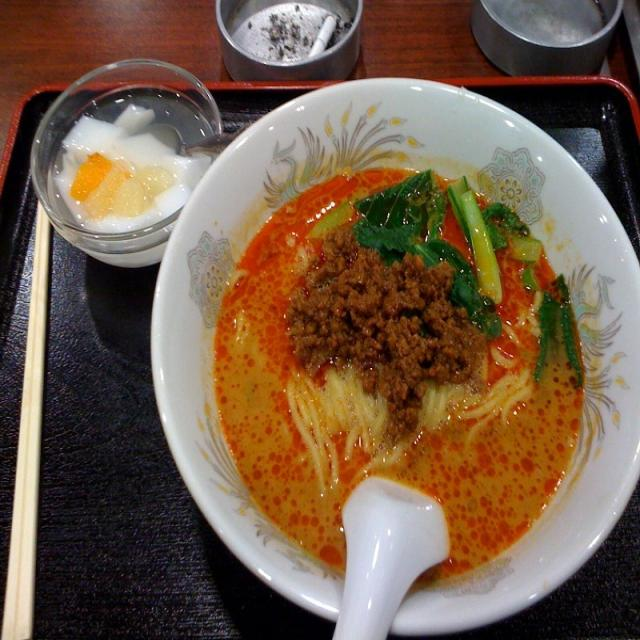面条主食: (158, 70, 634, 614)
